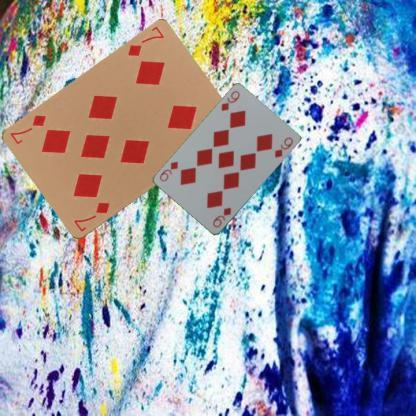7d: (71, 199, 111, 233), (124, 25, 165, 58)
9d: (210, 204, 233, 230), (218, 88, 241, 113)
